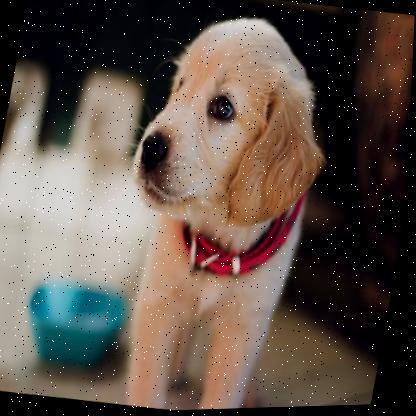dog: (67, 0, 358, 413)
